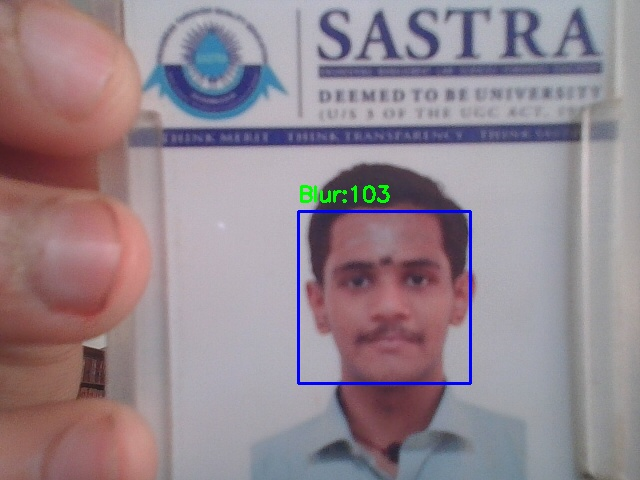fake: (298, 211, 470, 383)
